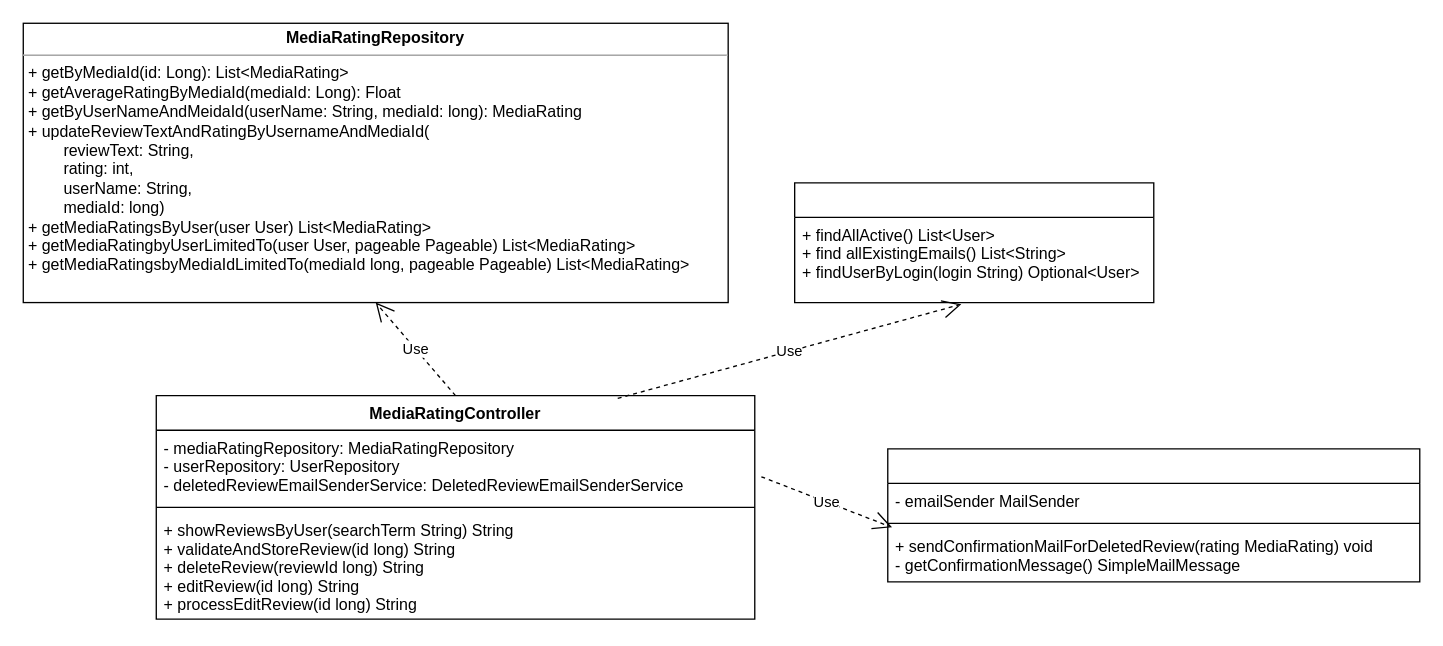
Image size: 1443x646. Some labels were removed from this diagram. The box of each missing label's shape, as (x1, y1, x2, y2) in pixels:
DeletedReviewEmailSenderService: (886, 448, 1420, 582)
UserRepository: (793, 182, 1154, 303)
